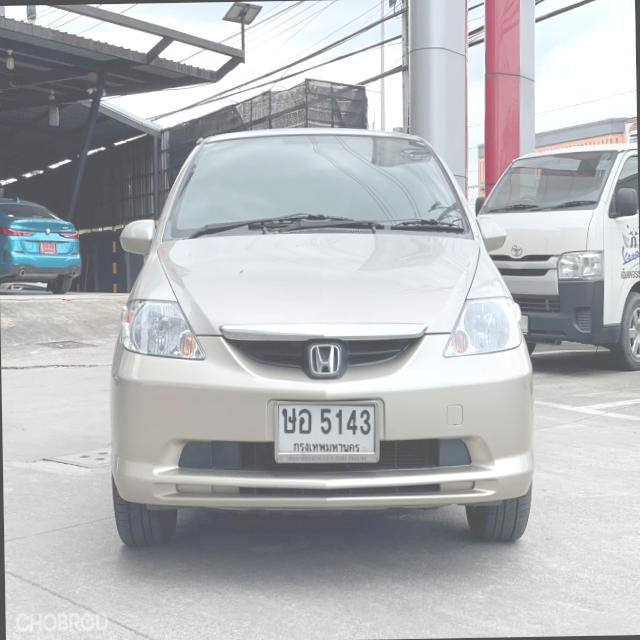license_plate: (271, 389, 382, 472)
